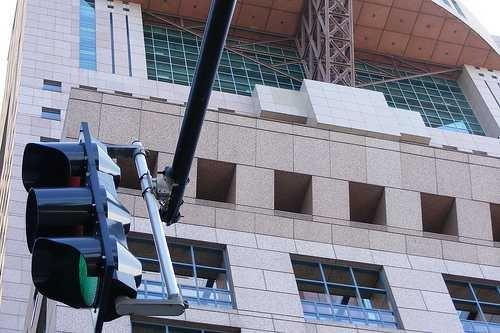green: (32, 237, 119, 309)
